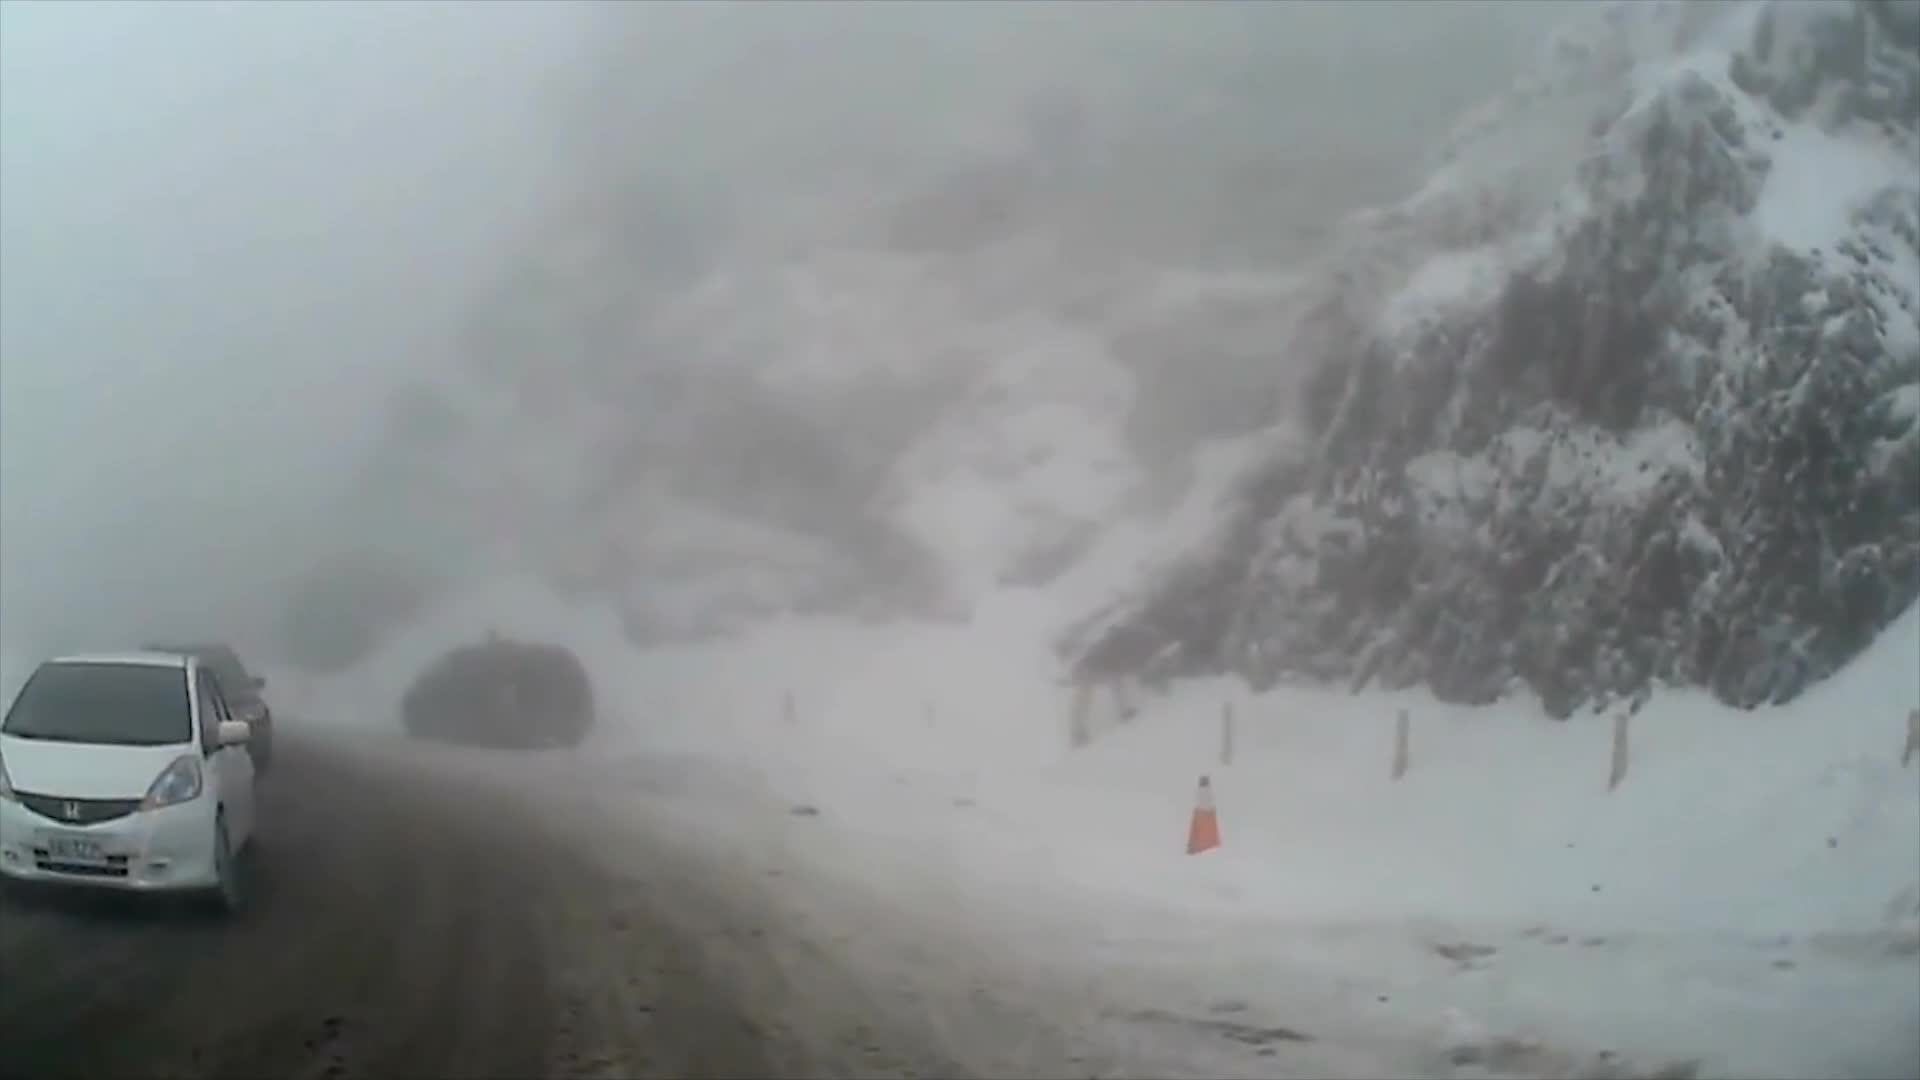vehicle: (0, 649, 260, 920), (405, 649, 599, 758)
